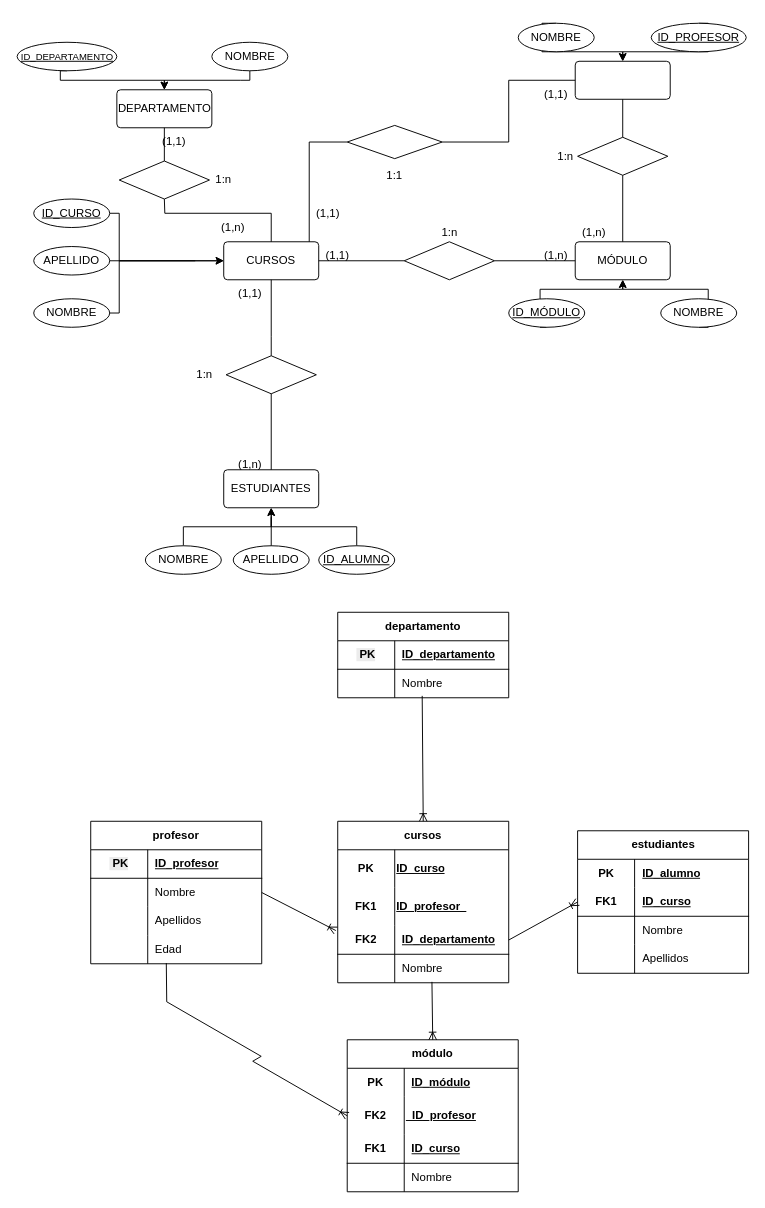
The diagram is 765 pixels wide and 1208 high, and some of its shapes have lost their labels. The shapes that lost their labels are listed below. From the top down, each one's centre as x and y in pixels, then its label:
At point 622,79: "PROFESORES".
At point 394,141: "ES TUTOR".
At point 622,155: "IMPARTE".
At point 163,179: "OFRECE".
At point 448,260: "TIENE".
At point 270,374: "MATRÍCULA".
